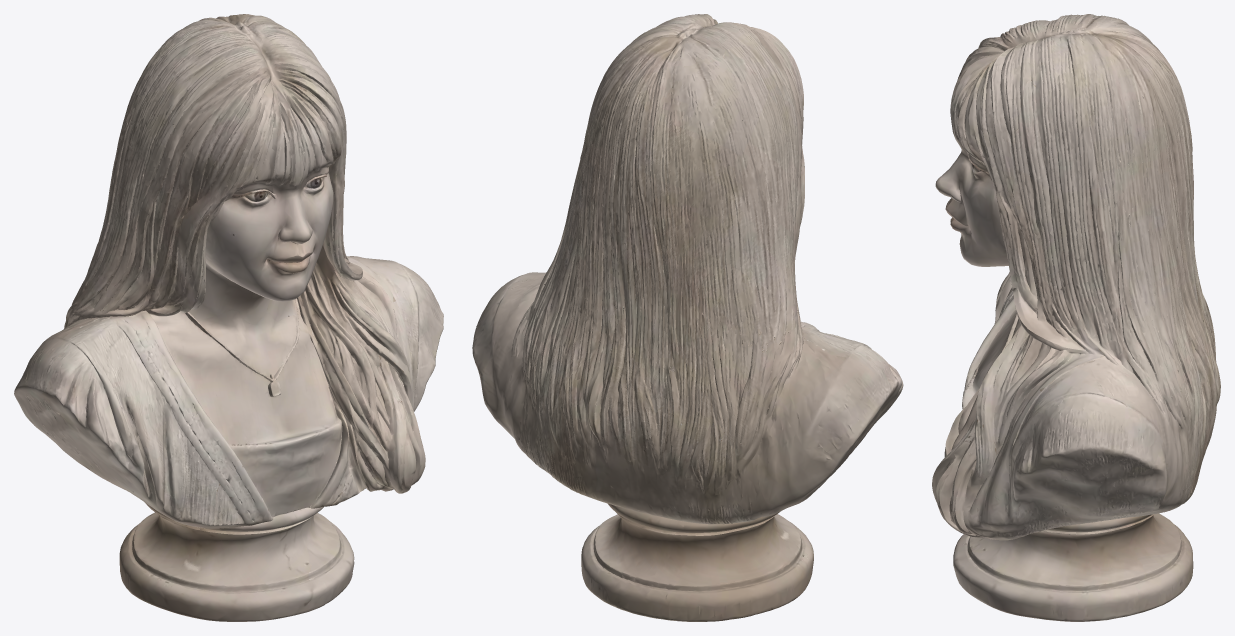
The picture shows the model from 3 angles, left to right: view 1: azimuth 30°, elevation 25°; view 2: azimuth 150°, elevation 25°; view 3: azimuth 270°, elevation 25°; orthographic projection.
Parts seen in each view (by area): view 1: model; view 2: model; view 3: model.
Boxes of the visible parts, bbox=[...] form: model: bbox=[14, 14, 443, 621]; model: bbox=[472, 14, 903, 621]; model: bbox=[932, 14, 1220, 621].
Bounding box in the file's own units: 1.46 × 1.9 × 0.905.
Materials: 1 (1 with a texture image).
